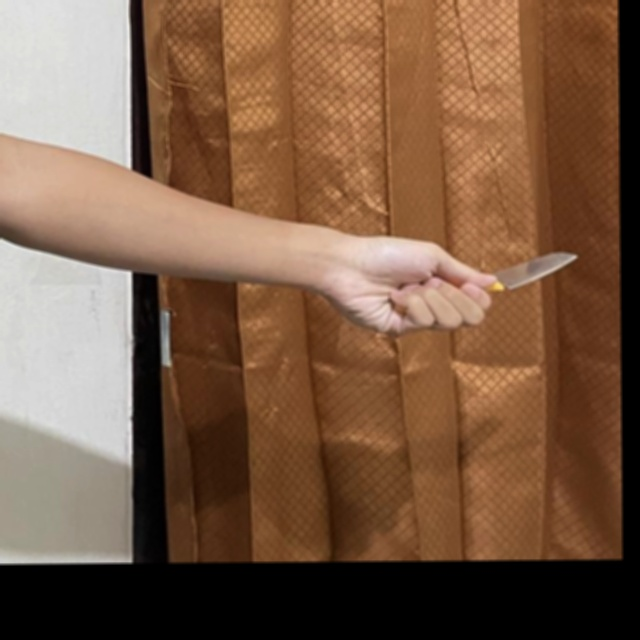Sharp-Object: (389, 250, 579, 317)
